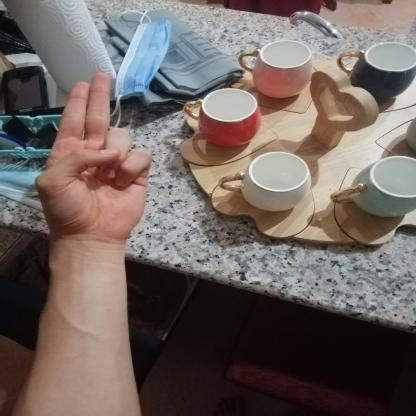TA: (22, 60, 164, 253)
